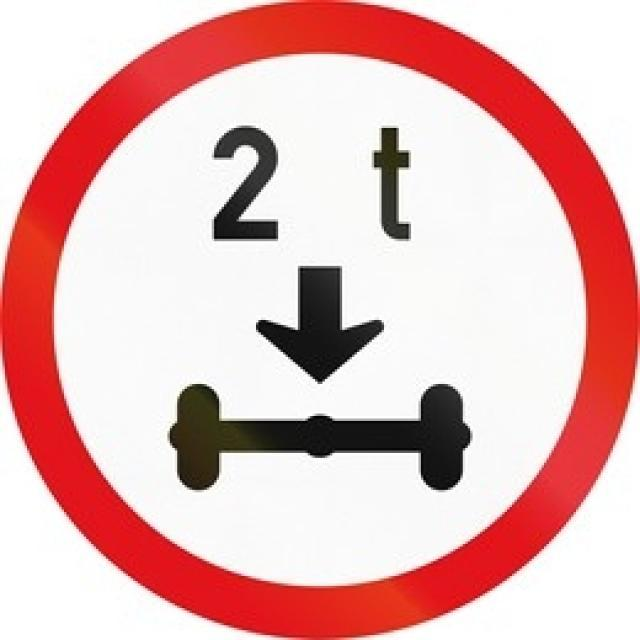axle load limit: (22, 23, 621, 615)
